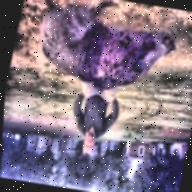boar: (24, 0, 192, 108)
